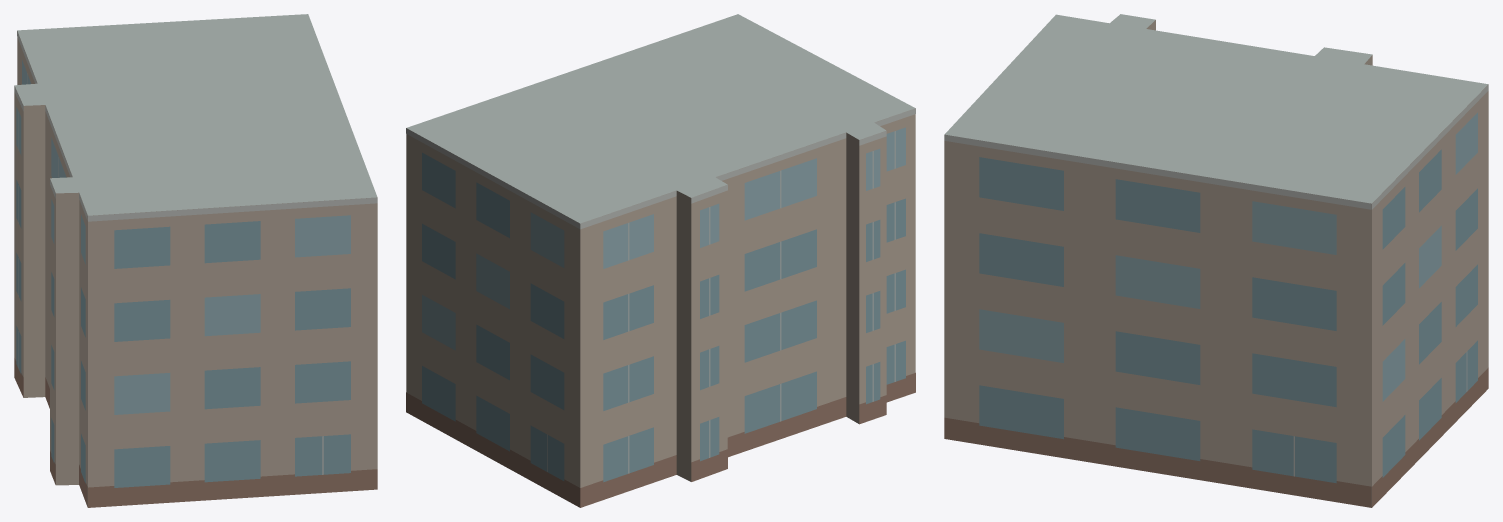
Rendered from survey-upis-32674869.glb.
The picture shows the model from 3 angles, left to right: view 1: azimuth 30°, elevation 25°; view 2: azimuth 150°, elevation 25°; view 3: azimuth 270°, elevation 25°; orthographic projection. The views are drawn at different scales.
Visible parts, largest first — view 1: survey-upis-32674869.tmp; view 2: survey-upis-32674869.tmp; view 3: survey-upis-32674869.tmp.
Part boxes in pixels (x1,y1,x2,y2): survey-upis-32674869.tmp: [14, 14, 377, 507]; survey-upis-32674869.tmp: [406, 14, 915, 507]; survey-upis-32674869.tmp: [944, 14, 1488, 507].
Size of the model in its own units: 16.01 by 11.97 by 19.41.
